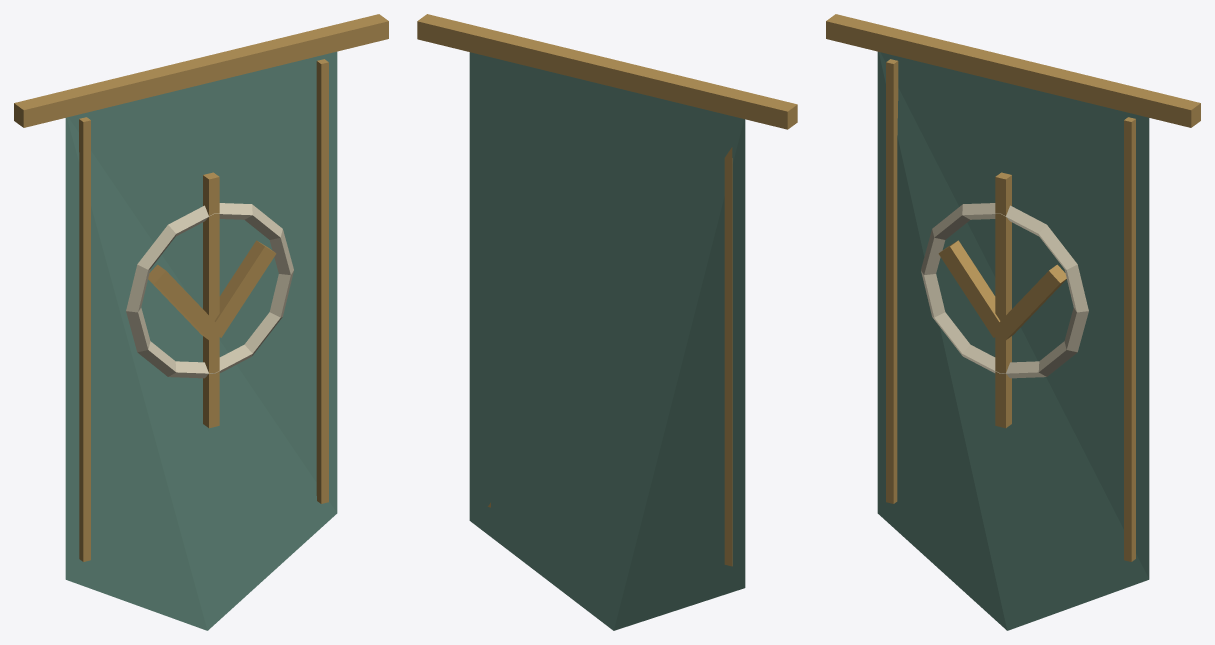
The model's file is banner_hall.glb.
3 views of the same model, side by side, from view 1: azimuth 30°, elevation 25°; view 2: azimuth 150°, elevation 25°; view 3: azimuth 330°, elevation 25° (orthographic).
Parts seen in each view (by area): view 1: geometry; view 2: geometry; view 3: geometry.
Boxes of the visible parts, <box> form: geometry: <box>14,14,388,630</box>; geometry: <box>417,14,797,630</box>; geometry: <box>826,14,1200,630</box>.
Size of the model in its own units: 0.86 by 1.27 by 0.0775.
